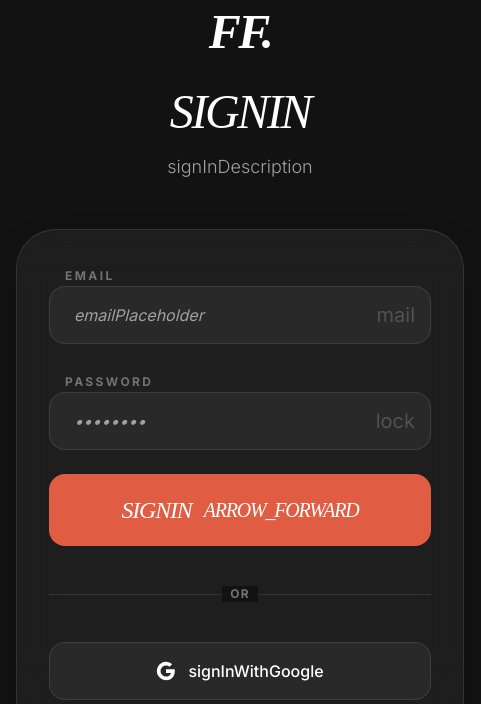
Test: LoginPage › displays error message on failed sign in
Type "test@example.com" into the field labelled "email" at [240, 315], box [49, 286, 431, 344]
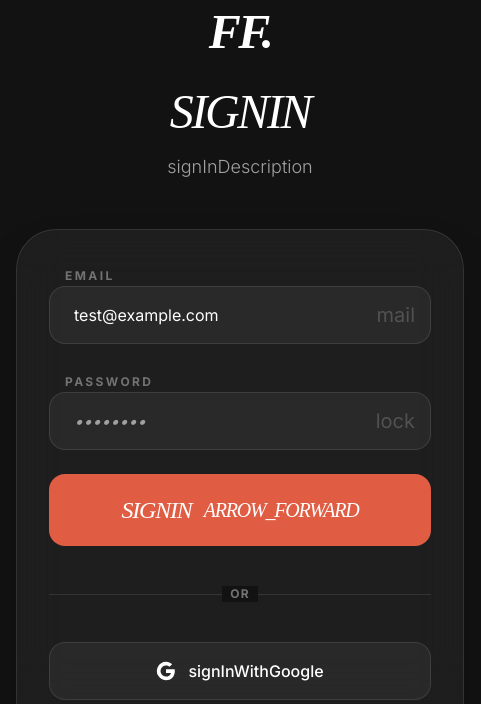
Type "wrong" into the password field labelled "password" at [240, 421], box [49, 392, 431, 450]
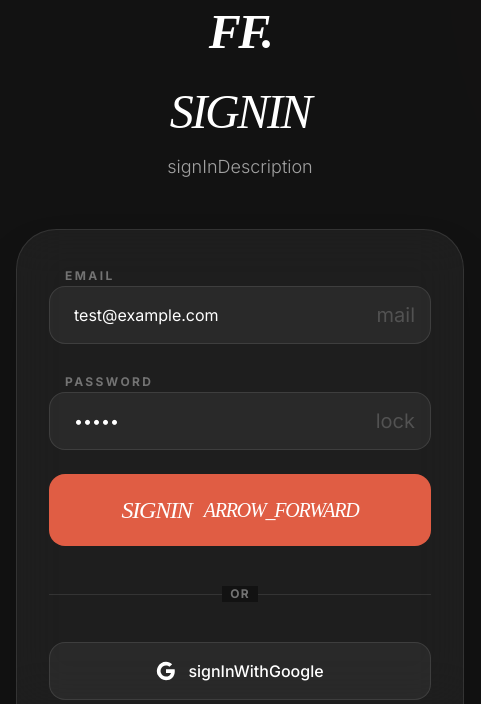
Click the button "signIn arrow_forward" at [240, 510], box [49, 474, 431, 546]
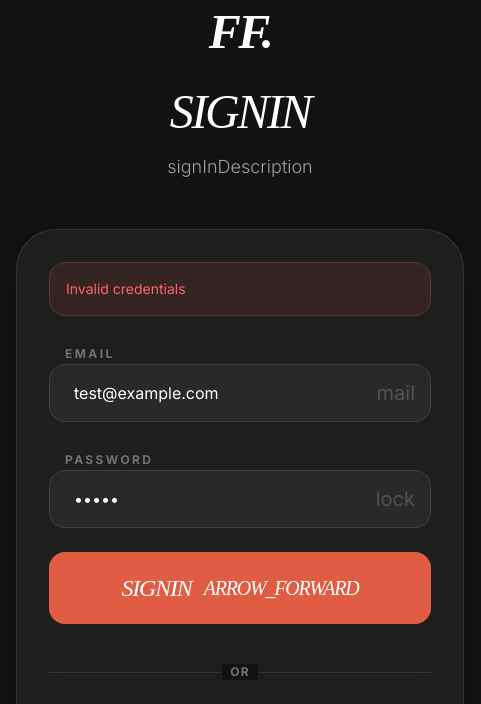
Now the text "Invalid credentials" is shown, box [49, 262, 431, 316]
